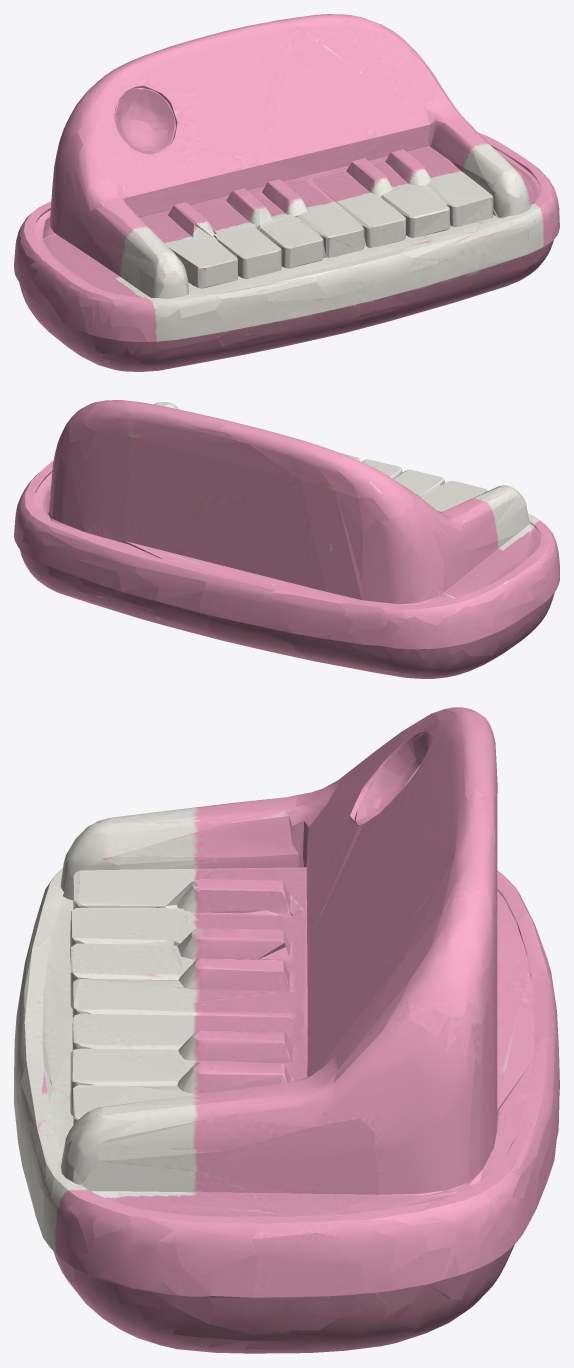
File: toyPiano.e0cb93e7.glb
3 views of the same model, one above another, from view 1: azimuth 30°, elevation 25°; view 2: azimuth 150°, elevation 25°; view 3: azimuth 270°, elevation 25° (orthographic). The views are drawn at different scales.
Visible parts, largest first — view 1: output_unwrapped; view 2: output_unwrapped; view 3: output_unwrapped.
Boxes of the visible parts, <box> form: output_unwrapped: <box>14,14,559,371</box>; output_unwrapped: <box>14,400,559,678</box>; output_unwrapped: <box>14,707,559,1353</box>.
Bounding box in the file's own units: 1.9 × 0.867 × 1.07.
1 material, 1 textured.
